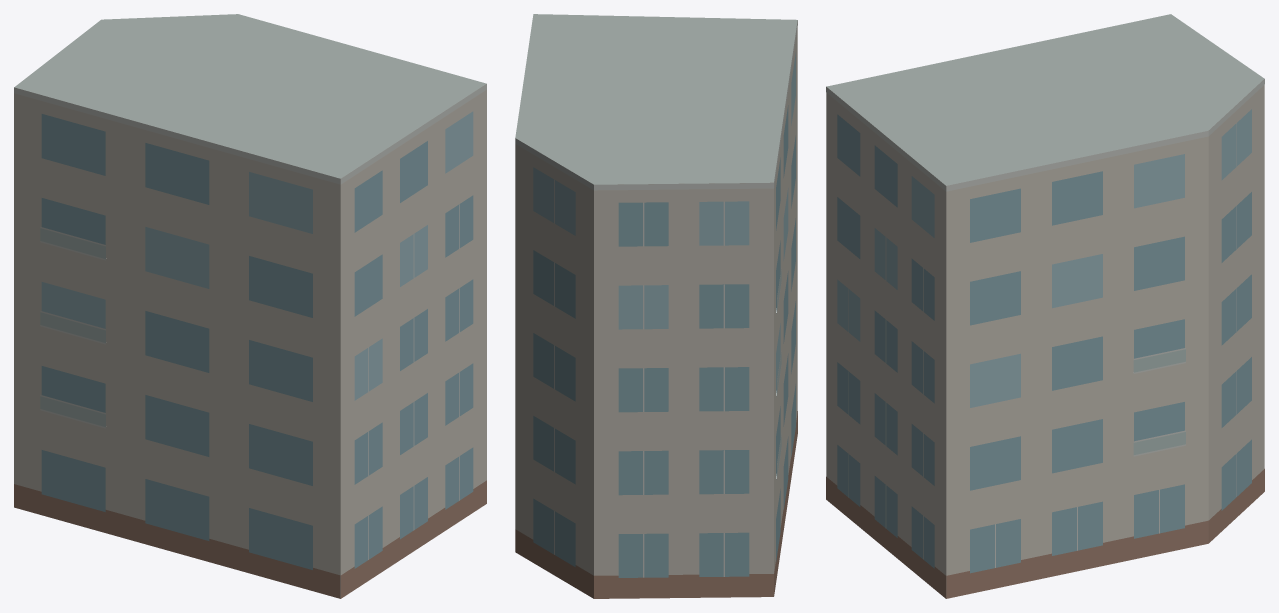
The model's file is survey-upis-32837162.glb.
The picture shows the model from 3 angles, left to right: view 1: azimuth 30°, elevation 25°; view 2: azimuth 150°, elevation 25°; view 3: azimuth 270°, elevation 25°; orthographic projection.
Visible parts, largest first — view 1: survey-upis-32837162.tmp; view 2: survey-upis-32837162.tmp; view 3: survey-upis-32837162.tmp.
Part boxes in pixels (x1,y1,x2,y2): survey-upis-32837162.tmp: (14, 14, 486, 598); survey-upis-32837162.tmp: (515, 14, 797, 598); survey-upis-32837162.tmp: (826, 14, 1264, 598).
Size of the model in its own units: 15.54 by 17.4 by 16.75.
